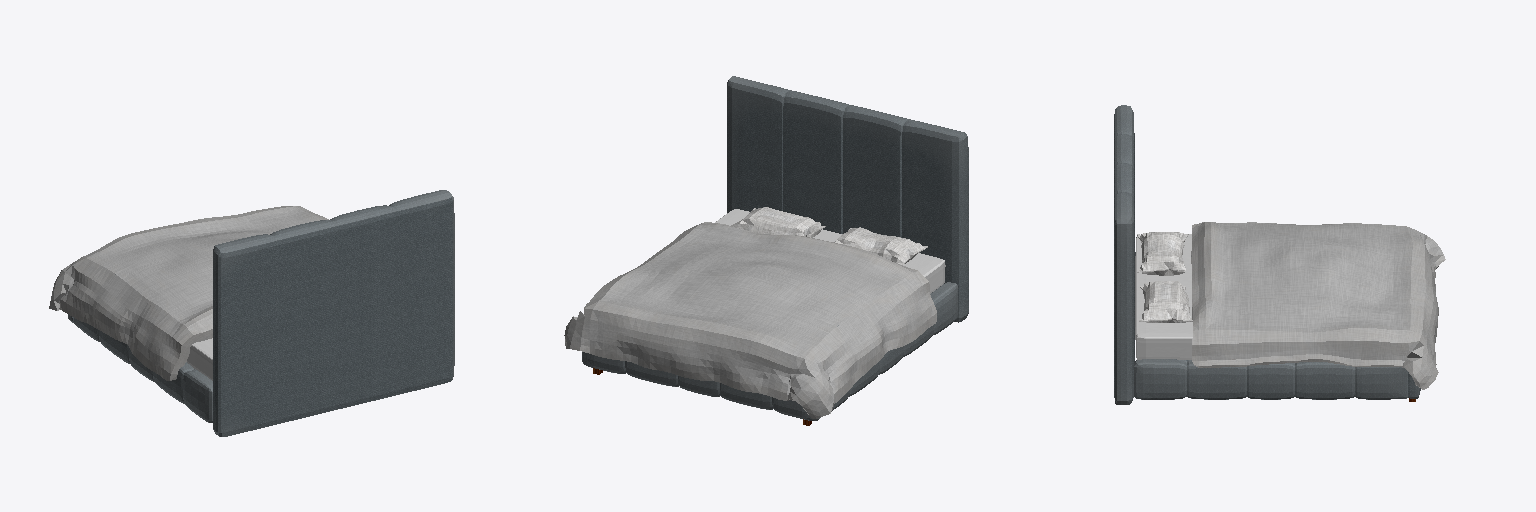
3 views of the same model, side by side, from view 1: azimuth 30°, elevation 25°; view 2: azimuth 150°, elevation 25°; view 3: azimuth 270°, elevation 25° (orthographic).
Parts seen in each view (by area): view 1: bed; view 2: bed; view 3: bed.
Part boxes in pixels (x1,y1,x2,y2): bed: (49, 190, 454, 436); bed: (564, 76, 968, 425); bed: (1114, 105, 1445, 404).
Size of the model in its own units: 13.25 by 8.82 by 14.13.
Materials: 1 (1 with a texture image).